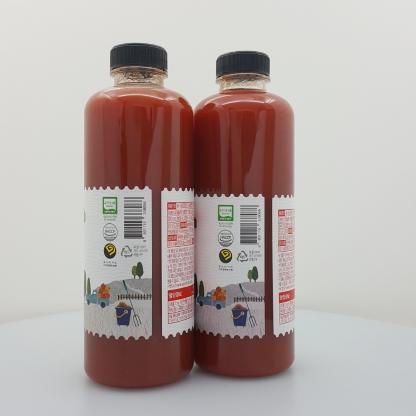-------------------900ML: (83, 42, 194, 389), (192, 50, 295, 378)
